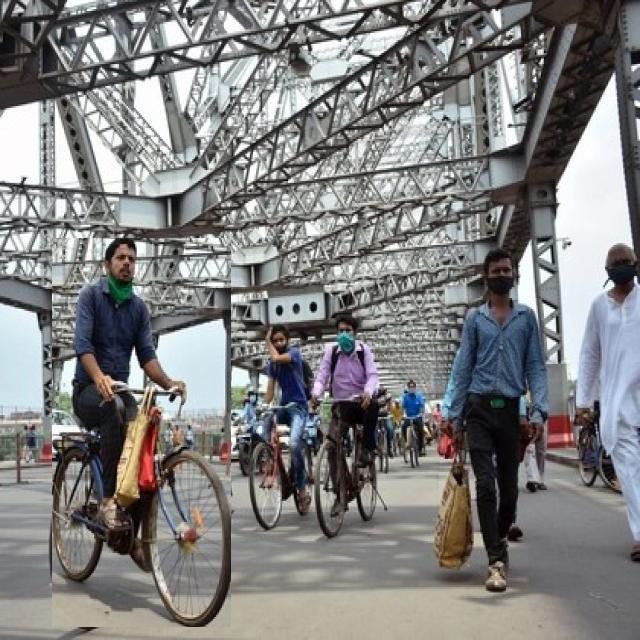bicycle: (52, 238, 231, 627), (311, 313, 378, 536), (249, 324, 311, 529)
